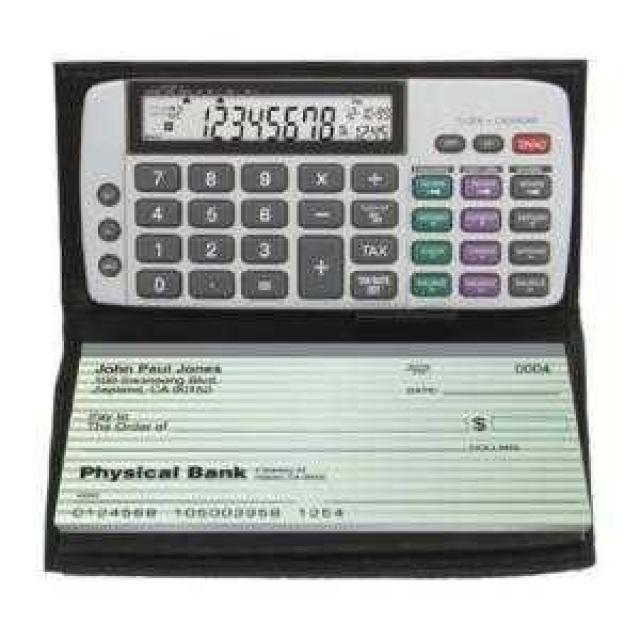Calculator: (55, 60, 585, 339)
